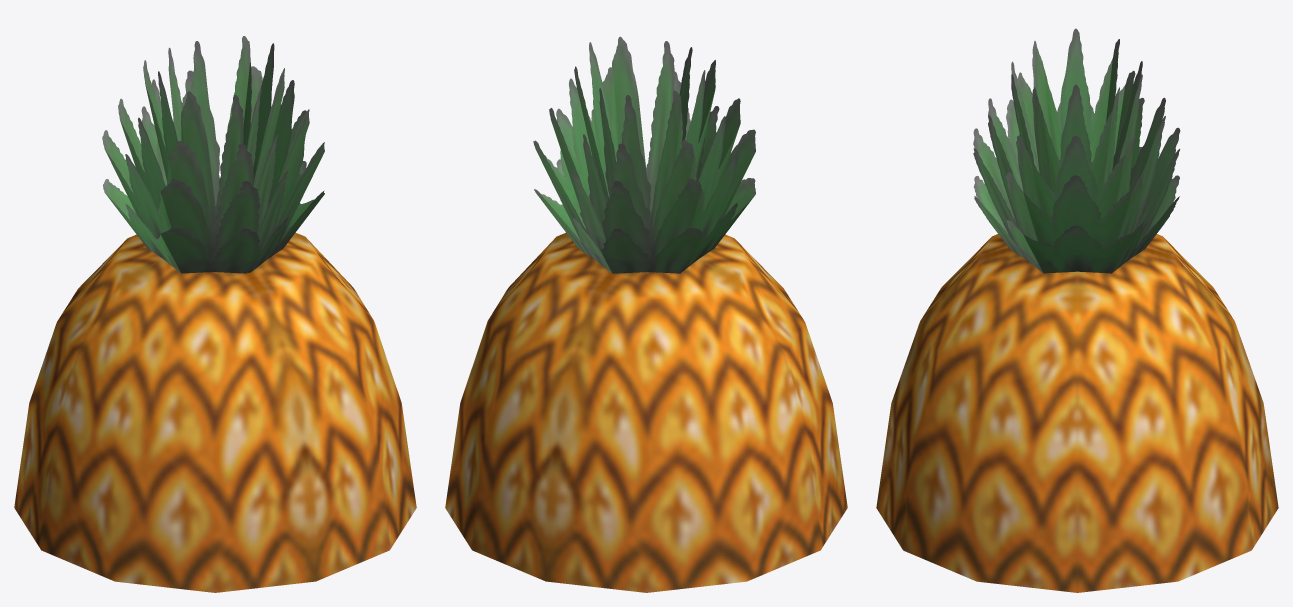
Rendered from ananas_p1.FBX.
The picture shows the model from 3 angles, left to right: view 1: azimuth 30°, elevation 25°; view 2: azimuth 150°, elevation 25°; view 3: azimuth 270°, elevation 25°; orthographic projection.
Visible parts, largest first — view 1: Object085; view 2: Object085; view 3: Object085.
Part boxes in pixels (box(x1,y1,x2,y2)): Object085: box(14, 36, 416, 592); Object085: box(445, 36, 847, 592); Object085: box(876, 28, 1278, 592).
Size of the model in its own units: 21.96 by 28 by 21.96.
1 material, 1 textured.
